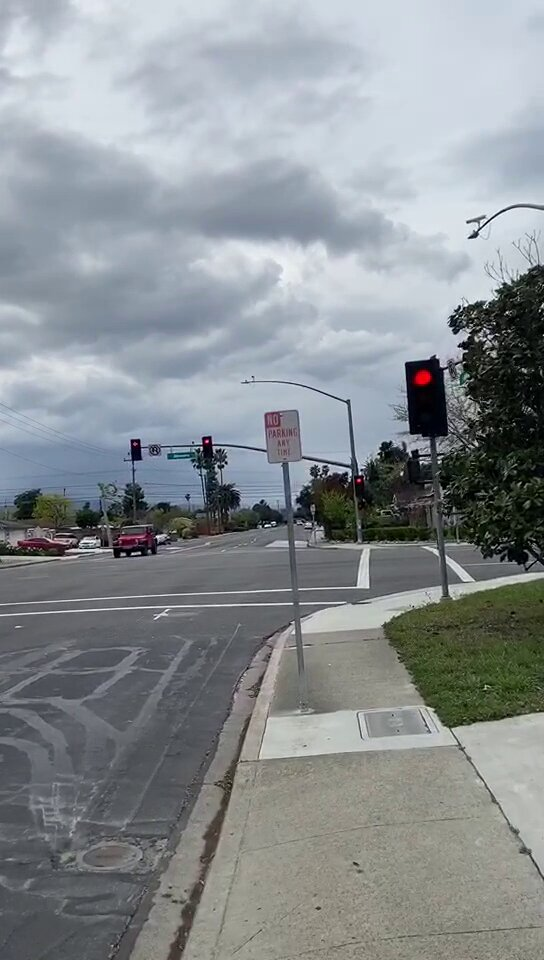red_light: (406, 362, 447, 439), (201, 436, 216, 458), (130, 439, 143, 459), (354, 473, 365, 495)
